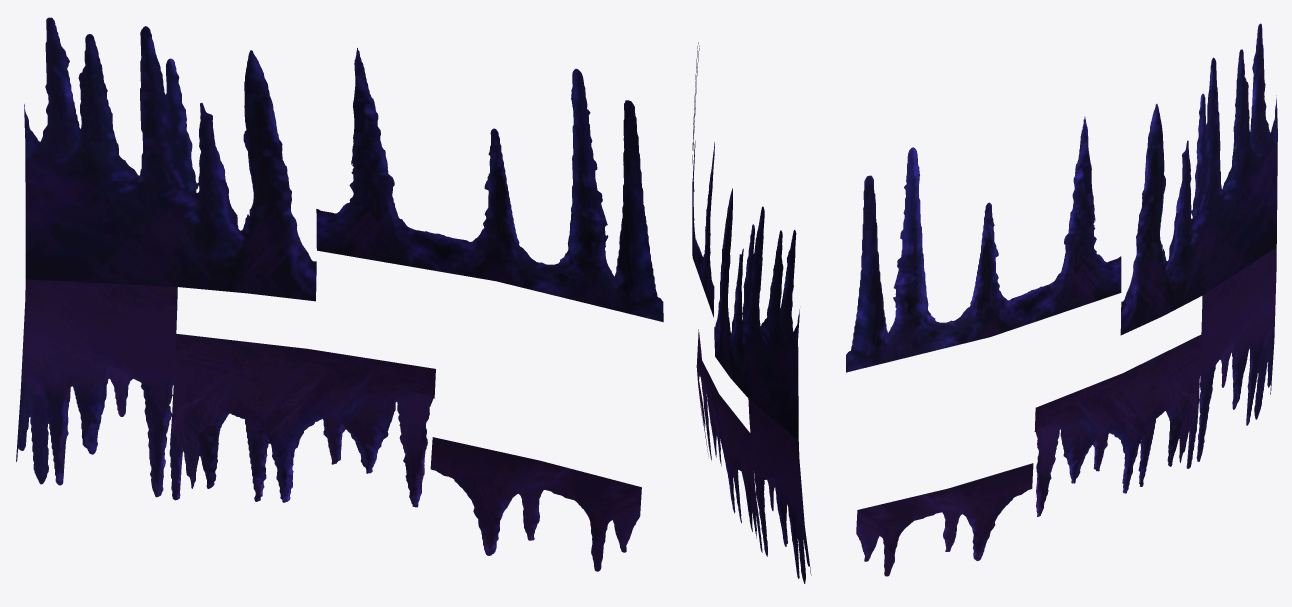
The model's file is SWORDLIGHT20_PS-AREA05-RANGE01_00.obj.
The picture shows the model from 3 angles, left to right: view 1: azimuth 30°, elevation 25°; view 2: azimuth 150°, elevation 25°; view 3: azimuth 270°, elevation 25°; orthographic projection. The views are drawn at different scales.
Parts seen in each view (by area): view 1: ea05-Range01_00; view 2: ea05-Range01_00; view 3: ea05-Range01_00.
Boxes of the visible parts, x1,y1,x2,y2 form: ea05-Range01_00: (16, 17, 663, 571); ea05-Range01_00: (692, 42, 811, 583); ea05-Range01_00: (846, 23, 1277, 576).
Size of the model in its own units: 1784 by 2132 by 1928.
